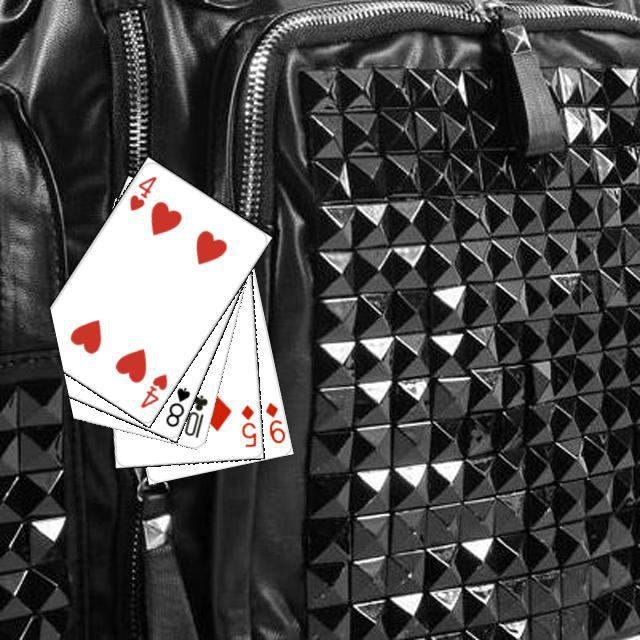10c: (179, 390, 209, 440)
4h: (124, 171, 158, 213), (135, 369, 169, 410)
5d: (236, 400, 258, 449)
8s: (161, 382, 192, 429)
9d: (261, 397, 286, 445)
